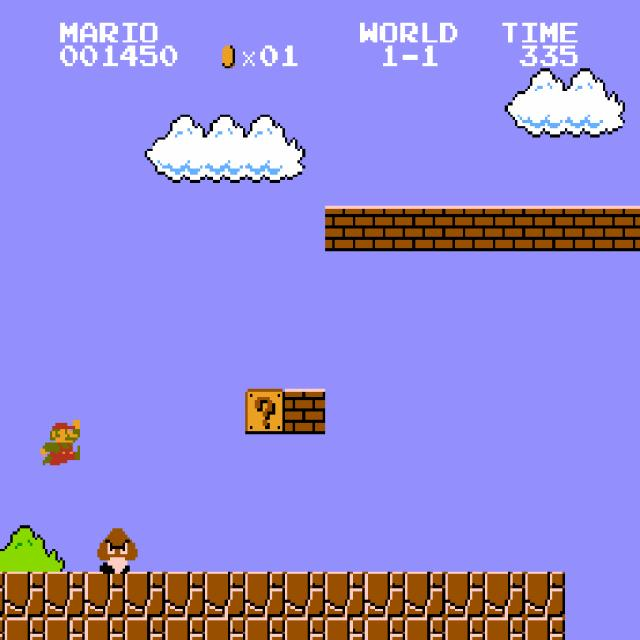brick_block: (285, 389, 325, 434), (325, 206, 365, 251), (365, 206, 405, 251), (405, 206, 445, 251), (445, 206, 485, 251), (485, 206, 525, 251), (525, 206, 565, 251), (565, 206, 605, 251), (605, 206, 640, 251)
goomba: (95, 526, 138, 574)
little_mario: (38, 417, 80, 466)
mystery_block: (245, 389, 285, 434)
undestructible_block: (5, 572, 45, 617), (45, 572, 85, 617), (85, 572, 125, 617), (125, 572, 165, 617), (165, 572, 205, 617), (205, 572, 245, 617), (245, 572, 285, 617), (285, 572, 325, 617), (325, 572, 365, 617), (365, 572, 405, 617), (405, 572, 445, 617), (445, 572, 485, 617), (485, 572, 525, 617), (525, 572, 565, 617), (5, 617, 45, 640), (45, 617, 85, 640), (85, 617, 125, 640), (125, 617, 165, 640), (165, 617, 205, 640), (205, 617, 245, 640), (245, 617, 285, 640), (285, 617, 325, 640), (325, 617, 365, 640), (365, 617, 405, 640), (405, 617, 445, 640), (445, 617, 485, 640), (485, 617, 525, 640), (525, 617, 565, 640), (0, 572, 5, 617), (0, 617, 5, 640)
